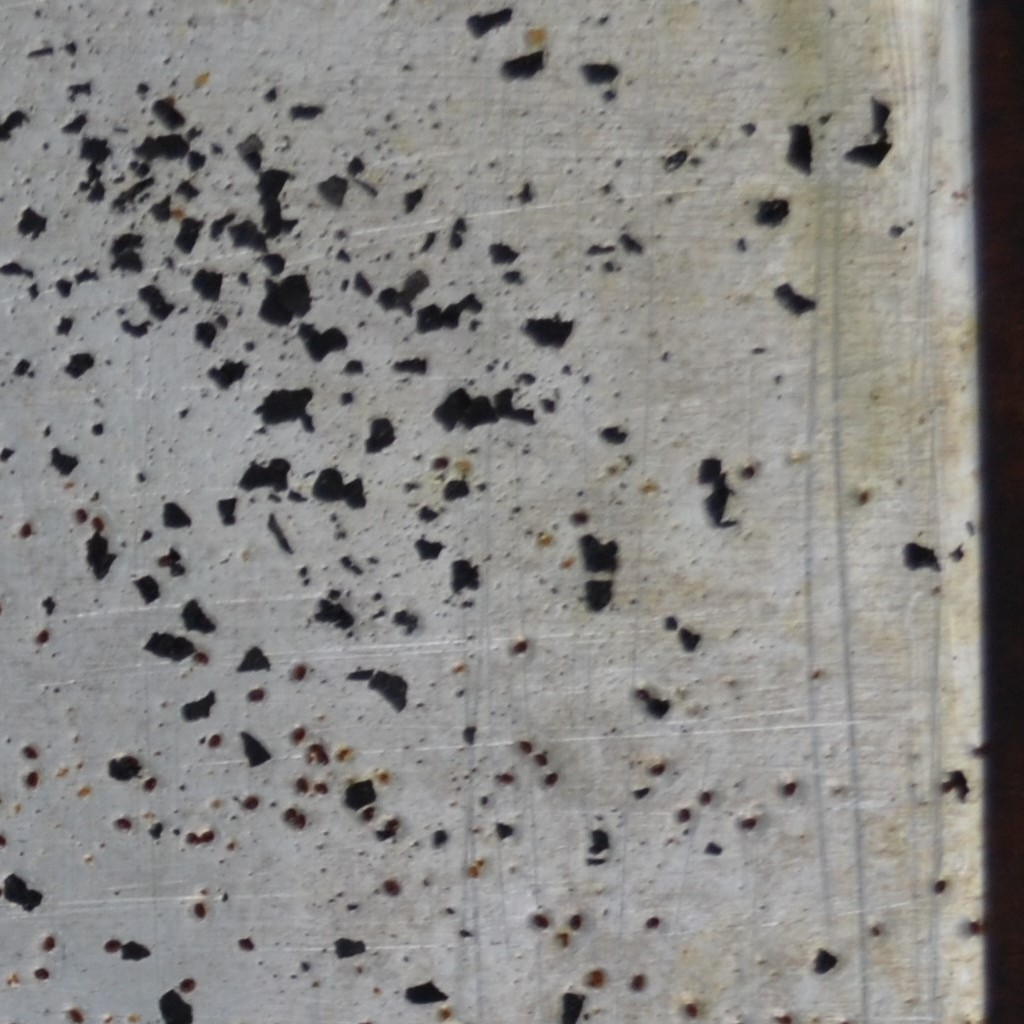varroa: (695, 786, 717, 808), (529, 910, 550, 933), (628, 969, 649, 992), (140, 772, 161, 794), (101, 936, 122, 958), (235, 933, 256, 955), (289, 660, 309, 683), (583, 968, 604, 989), (177, 973, 199, 993), (380, 876, 402, 896), (33, 626, 52, 649), (679, 1001, 702, 1020), (113, 812, 134, 832), (244, 685, 267, 703), (289, 723, 305, 748), (738, 816, 758, 836), (17, 520, 34, 543), (39, 933, 58, 953), (205, 732, 225, 751), (675, 807, 695, 826), (965, 916, 983, 937), (649, 761, 668, 780), (929, 878, 948, 897), (73, 504, 88, 528), (191, 648, 211, 666), (242, 795, 260, 815), (193, 900, 209, 922), (632, 685, 649, 705), (312, 781, 330, 799), (780, 781, 798, 799), (22, 771, 41, 788), (199, 827, 216, 846), (90, 513, 105, 533), (568, 912, 583, 932), (291, 812, 308, 829), (33, 966, 51, 982), (21, 745, 39, 761), (184, 828, 199, 847), (65, 1008, 85, 1022), (294, 777, 310, 794), (533, 749, 549, 766), (361, 803, 375, 822), (517, 738, 532, 755), (497, 771, 515, 784), (283, 806, 297, 822), (386, 815, 402, 829), (315, 750, 330, 764), (307, 741, 325, 752)
